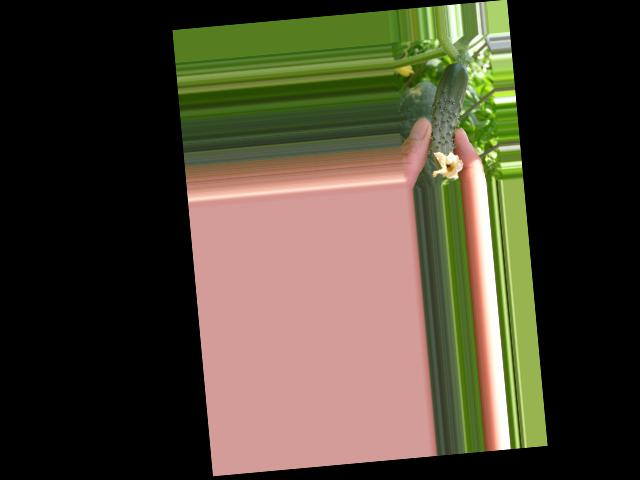cucumber: (422, 61, 476, 180)
